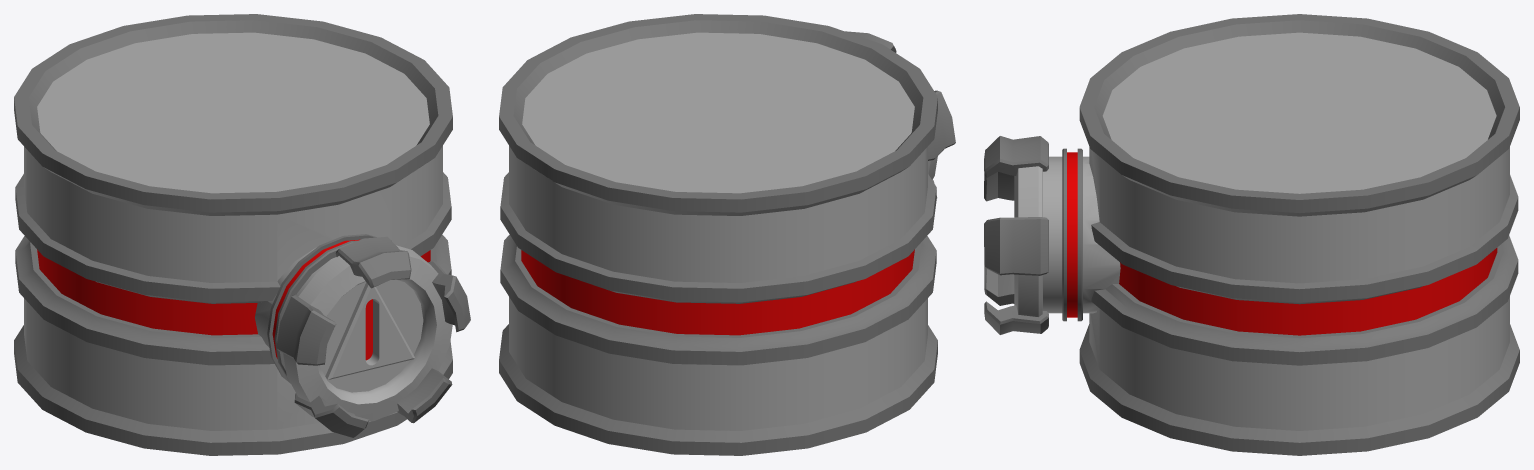
Rendered from Geo_Energyverteiler_lvl3.fbx.
3 views of the same model, side by side, from view 1: azimuth 30°, elevation 25°; view 2: azimuth 150°, elevation 25°; view 3: azimuth 270°, elevation 25° (orthographic).
Parts seen in each view (by area): view 1: pCylinder7; view 2: pCylinder7; view 3: pCylinder7.
Part boxes in pixels (box(x1,y1,x2,y2)): pCylinder7: box(14, 14, 470, 455); pCylinder7: box(499, 14, 955, 455); pCylinder7: box(984, 14, 1519, 455).
Size of the model in its own units: 167 by 107 by 204.
